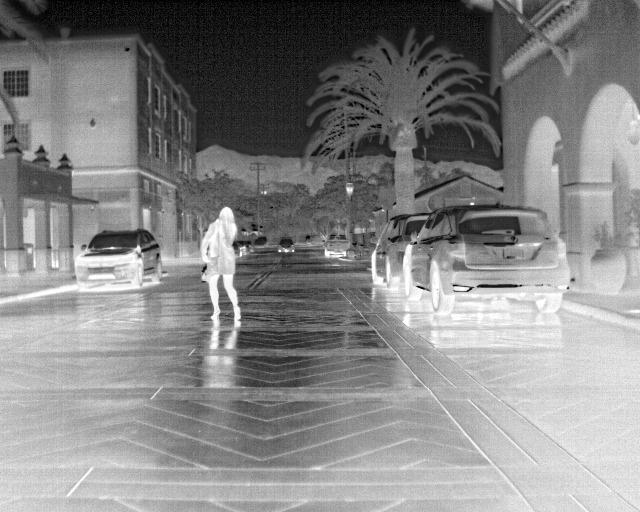bicycle: (402, 202, 573, 318), (73, 228, 160, 287), (368, 211, 431, 292), (324, 232, 352, 259), (275, 236, 296, 256)
empty: (197, 204, 244, 323)
